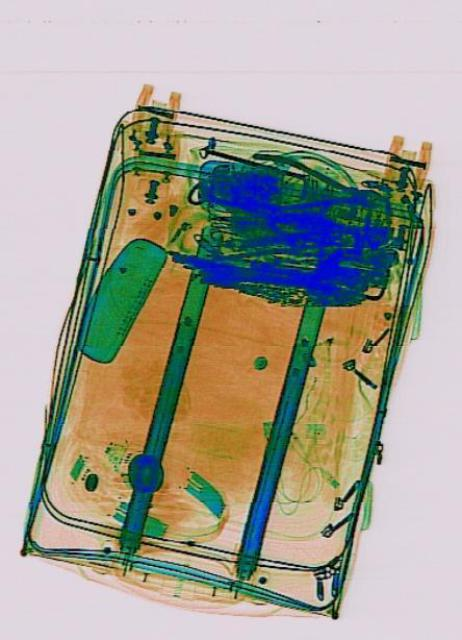Pliers: (248, 150, 383, 218)
